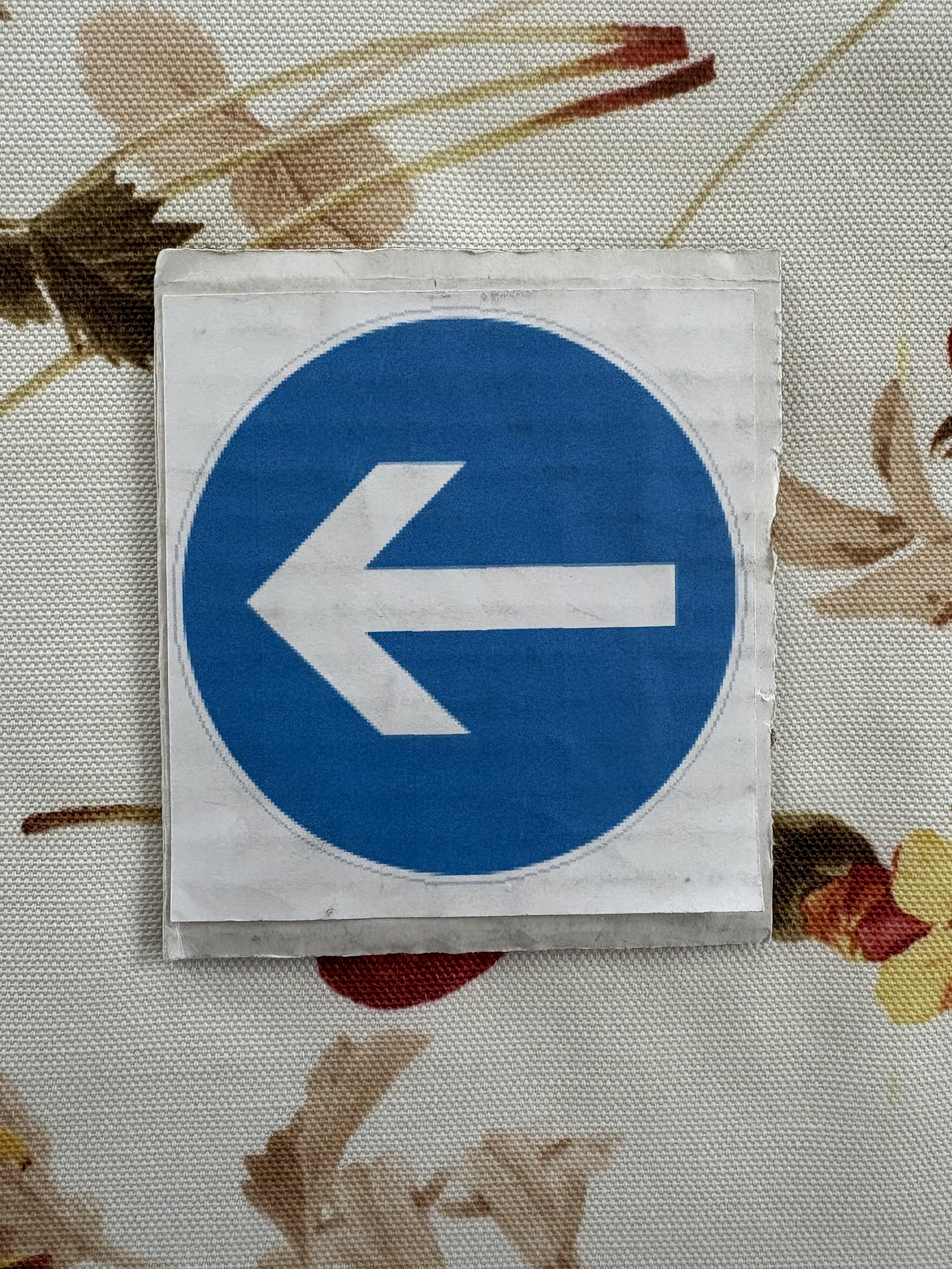Proceed Left: (161, 264, 767, 958)
